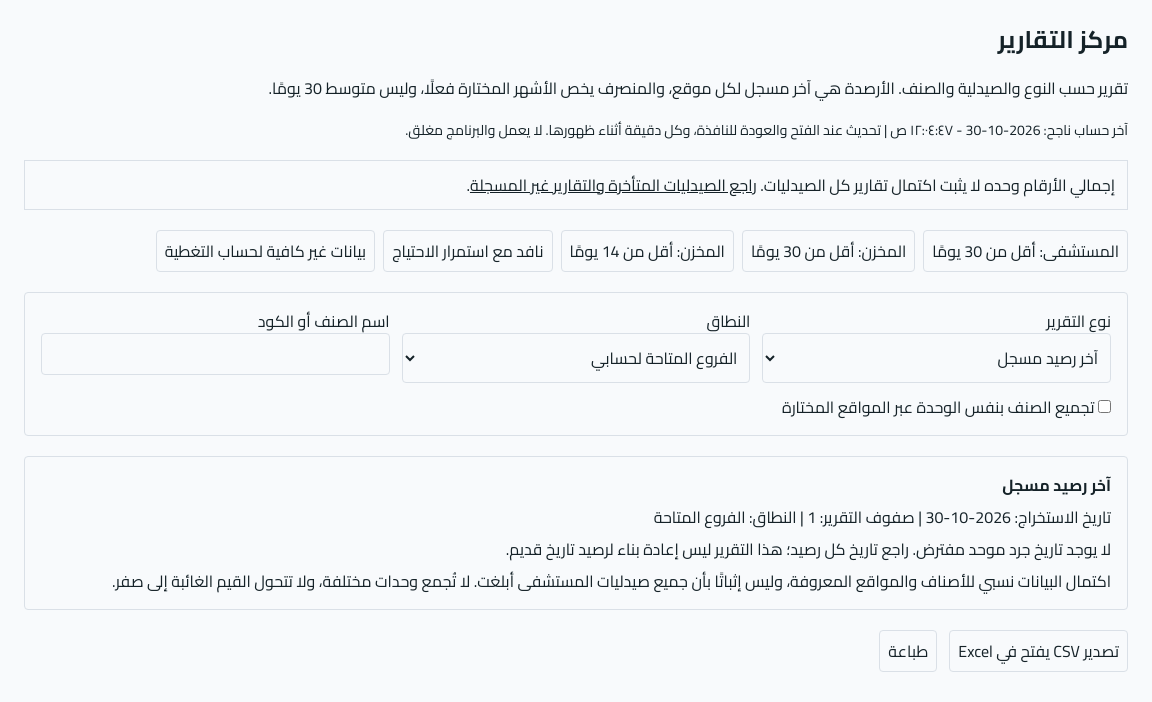
Test: lets the user explicitly switch report and alert basis without changing recorded rows
Later steps or results of the test are not shown.
Click the button "المستشفى: أقل من 30 يومًا" at x=1026, y=251, box [923,230,1128,272]
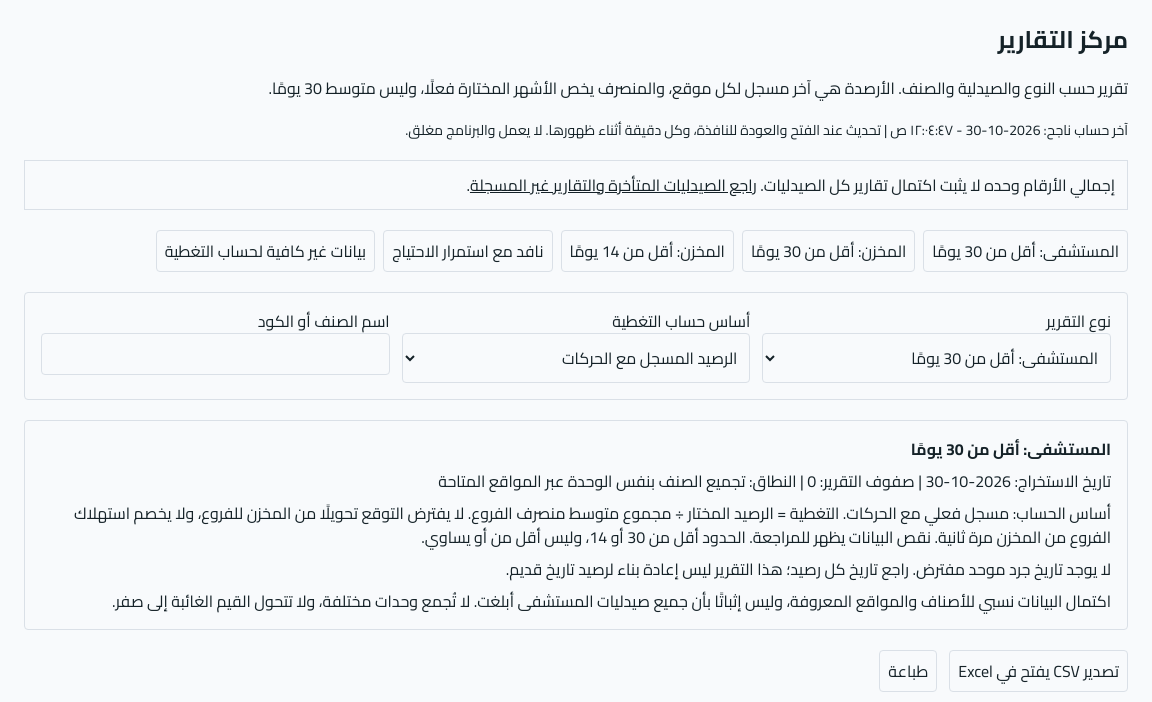
Select "الرصيد المتوقع اليوم - تقديري" in the dropdown labelled "أساس حساب التغطية" at x=576, y=358, box [402,333,750,383]
(page scrolled)
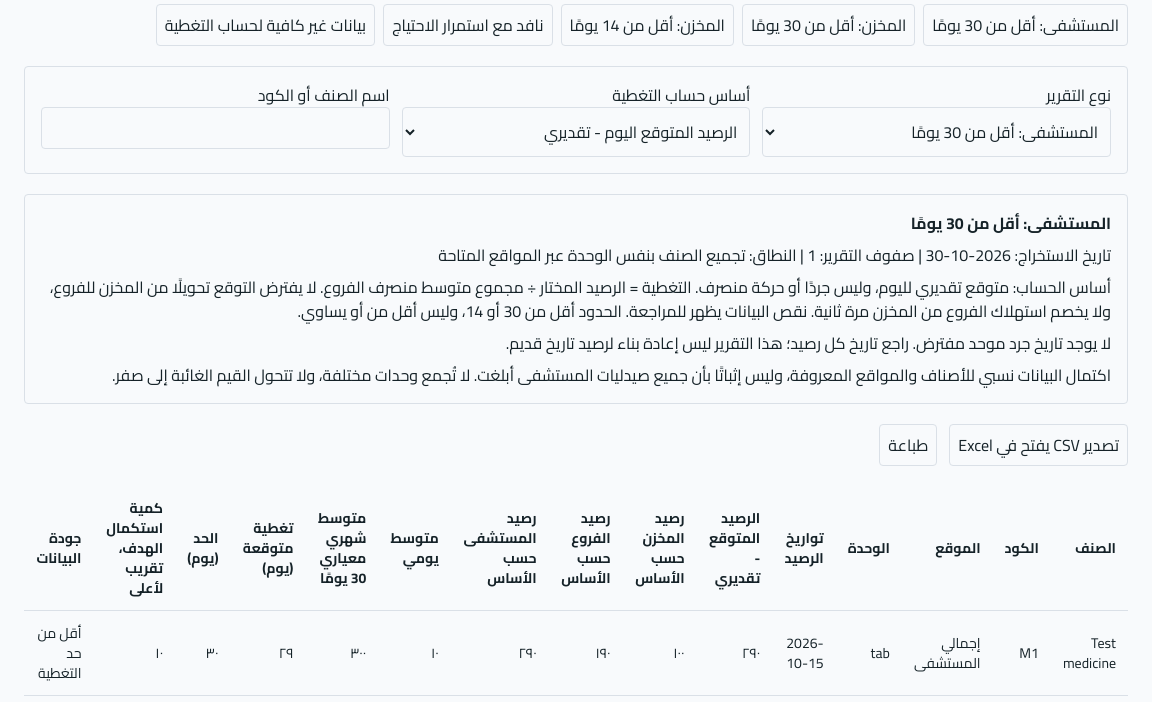
Now the column heading "الرصيد المتوقع - تقديري" is shown, box [697,486,772,610]
Now the text "٢٩" is shown, box [230,610,306,696]
